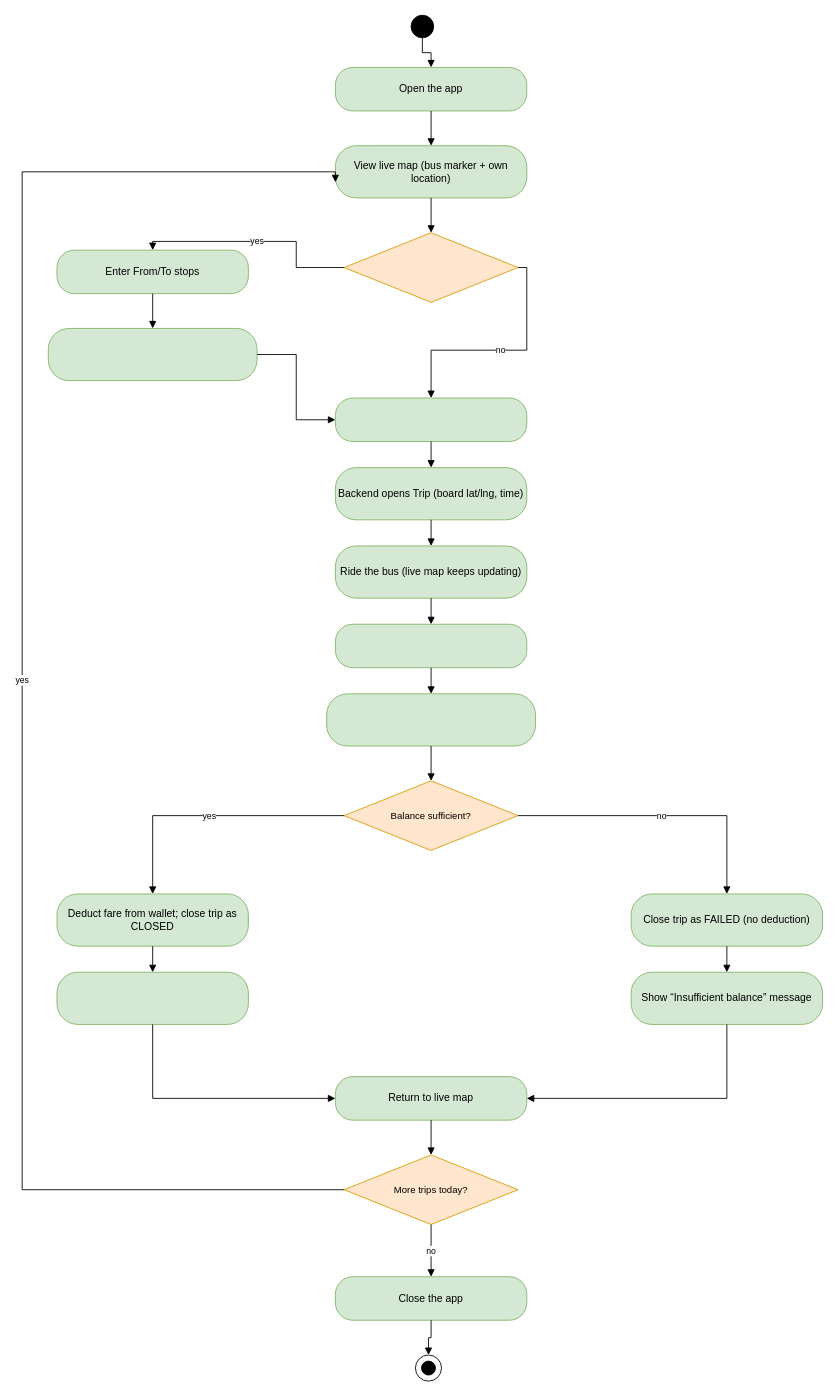
Image size: 838x1396. Some labels were removed from this diagram. Here are the shapes that lost their labels. From the top down, the centre of each, then its label:
(430,267): Search route?
(152,354): System matches route against active broadcast; show bus if match
(431,419): Scan QR code (BOARD)
(431,645): Scan QR code (EXIT)
(430,719): Backend calculates distance (Haversine) and fare (tiered rate)
(152,997): Show trip summary (distance, fare, new balance)
